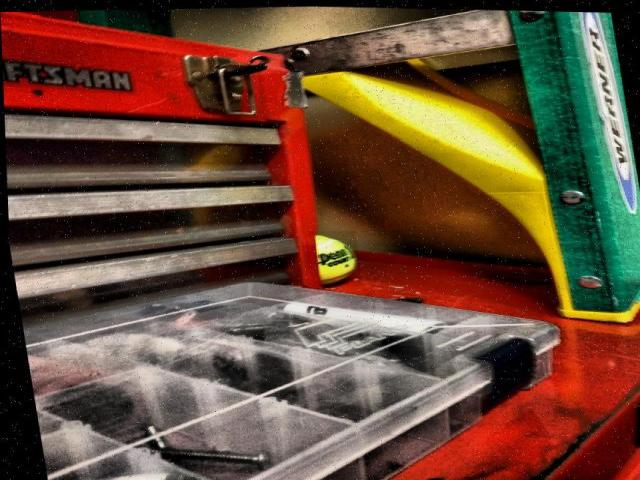tennis-ball: (316, 236, 356, 284)
